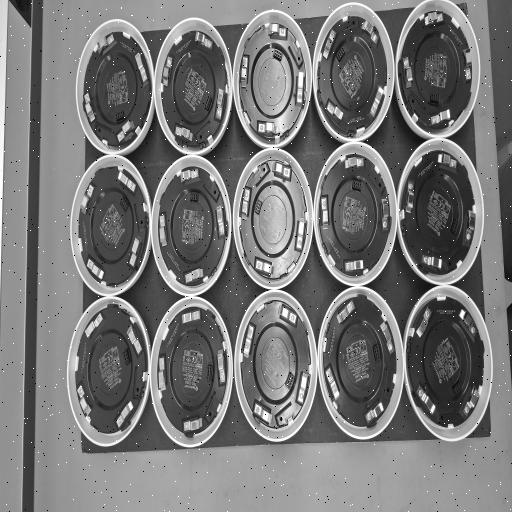yayli: (415, 384, 436, 416), (415, 306, 433, 338), (252, 398, 272, 426), (324, 366, 340, 400), (459, 308, 477, 338), (296, 369, 310, 407), (85, 312, 104, 340), (380, 321, 396, 354), (115, 400, 133, 429), (116, 118, 136, 144), (127, 324, 143, 356), (463, 386, 480, 416), (242, 323, 256, 359), (278, 302, 298, 326), (370, 85, 384, 119), (365, 401, 384, 425), (77, 384, 91, 416), (128, 236, 142, 268), (362, 20, 379, 46), (80, 184, 94, 215), (118, 170, 136, 194), (336, 300, 354, 324), (322, 28, 336, 58), (135, 52, 148, 84), (240, 186, 252, 220), (294, 218, 306, 252), (270, 161, 290, 181), (214, 89, 226, 121), (84, 92, 96, 124), (183, 416, 203, 435), (96, 33, 114, 54), (437, 152, 458, 170), (87, 258, 104, 280), (216, 349, 226, 386), (195, 31, 213, 51), (174, 124, 192, 144), (405, 181, 415, 217), (254, 256, 272, 276), (430, 109, 450, 127), (422, 254, 442, 272), (295, 72, 305, 106), (466, 209, 476, 243), (402, 56, 412, 90), (326, 100, 341, 122), (267, 23, 286, 40), (184, 268, 204, 284), (162, 56, 172, 88), (320, 195, 329, 230), (381, 197, 390, 231), (463, 48, 472, 82), (180, 167, 199, 183), (424, 11, 443, 27), (257, 121, 277, 136), (240, 56, 249, 89), (158, 355, 166, 391), (216, 204, 225, 236), (182, 309, 201, 324), (345, 260, 364, 274), (159, 214, 167, 246), (346, 156, 364, 170)
